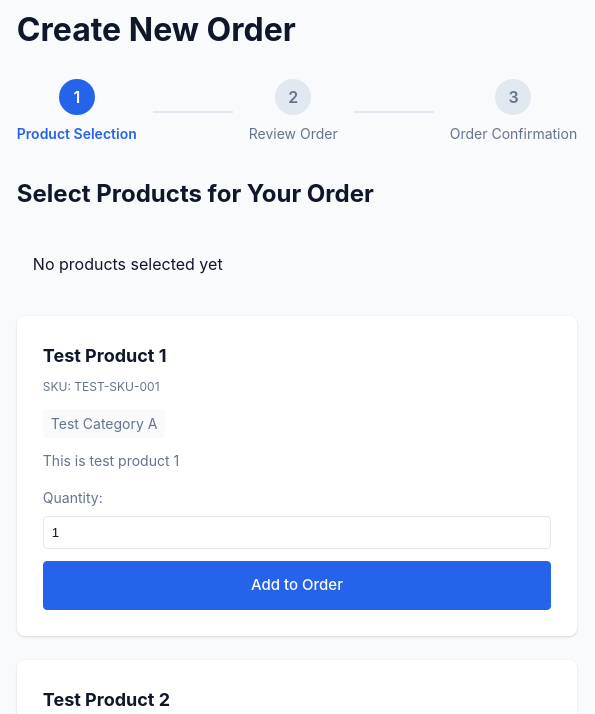
OrderCreate › should navigate to review step when "Review Order" is clicked
This screenshot has width=595, height=714.
Expected: the heading "Select Products for Your Order" is shown, [17,179,374,208]
Note: Add first product
What coordinates should you click on to do the following:
click the button "Add to Order"
I would click on:
 (297, 585)
Its box is [43,561,551,610].
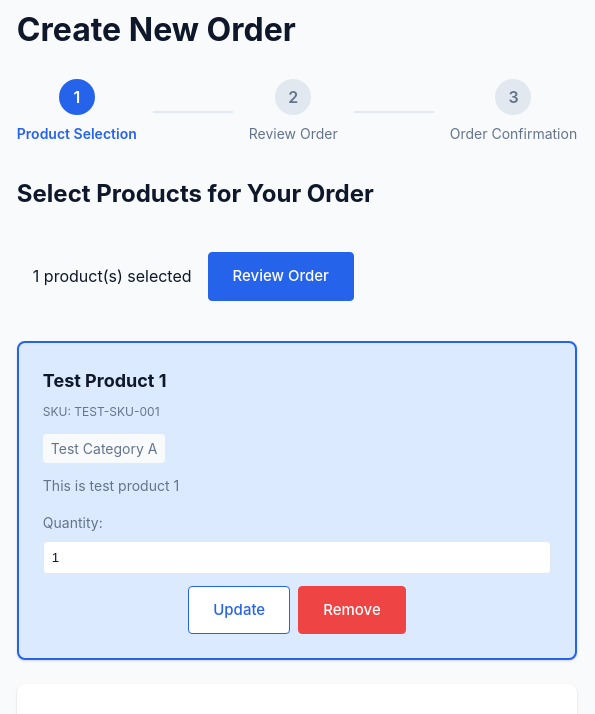
Note: Click Review Order button - using a more specific selector
What coordinates should you click on to do the following:
click the button "Review Order"
I would click on:
 (281, 276)
Its box is [208,252,354,301].
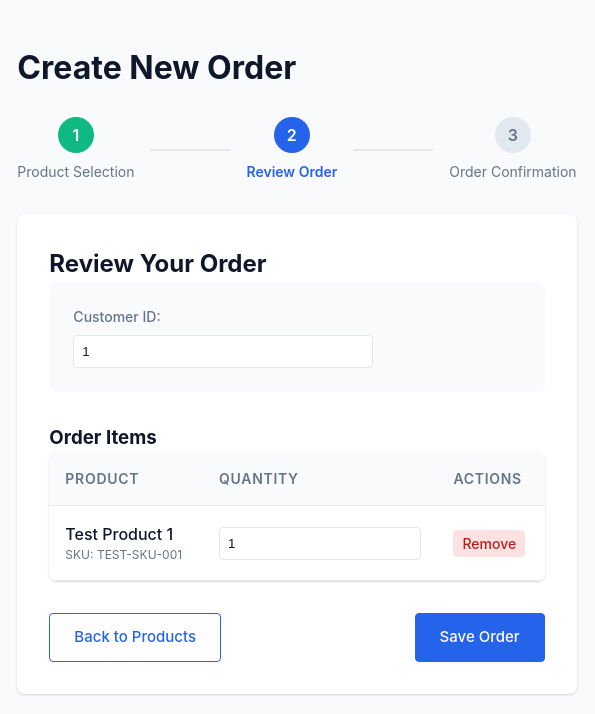
Now the heading "Review Your Order" is shown, box [49,249,267,278]
